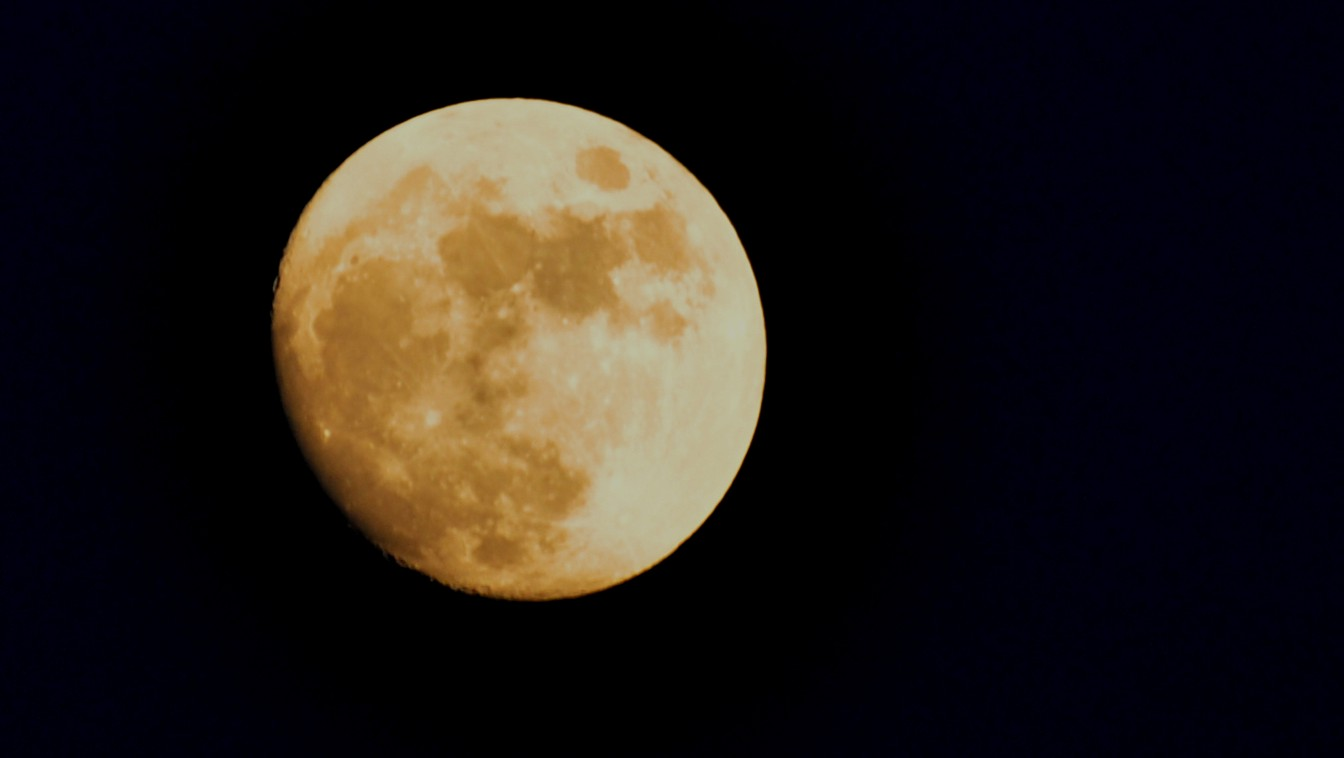crater: (410, 394, 457, 444)
